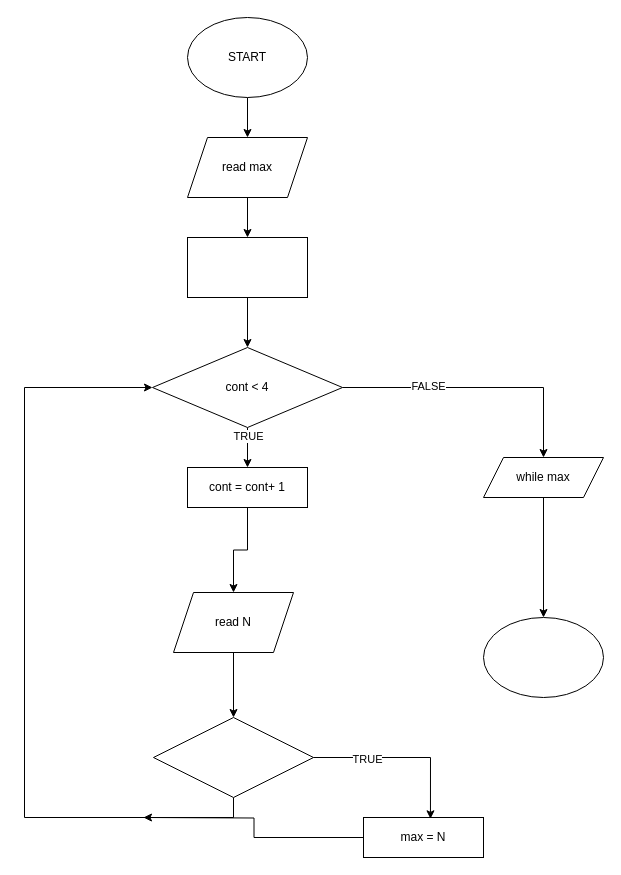
This 621x875 diagram has some shape labels left out. The box of each missing label's shape, as (x1, y1, x2, y2) in pixels:
cont = 1: (186, 236, 308, 298)
END: (482, 616, 604, 698)
n > max: (152, 716, 314, 798)
